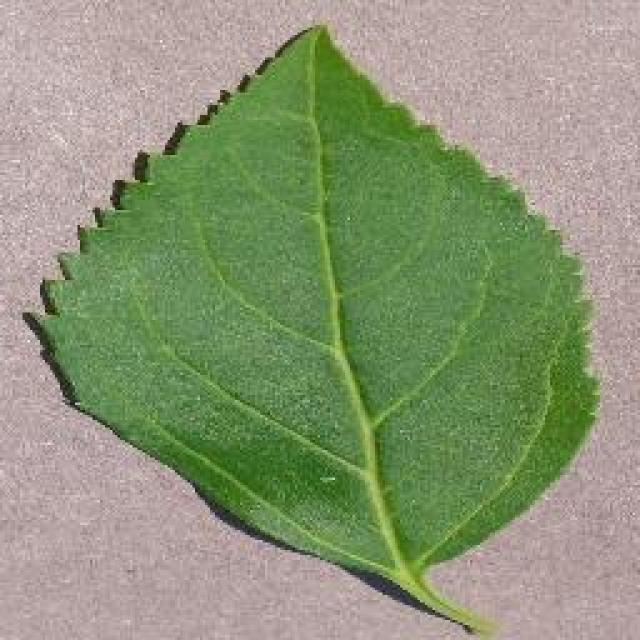Cherry___healthy: (15, 7, 610, 640)
